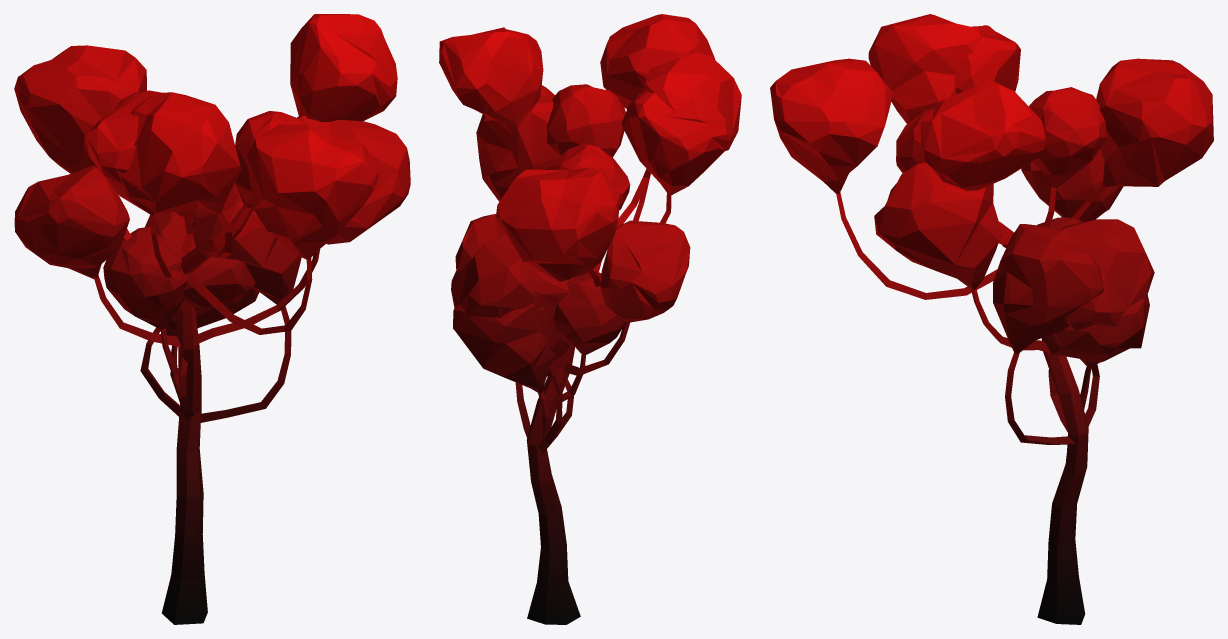
The model's file is TreeEuca09.fbx.
3 renders of one model, left to right at view 1: azimuth 30°, elevation 25°; view 2: azimuth 150°, elevation 25°; view 3: azimuth 270°, elevation 25°, orthographic. The views are drawn at different scales.
Parts seen in each view (by area): view 1: TreeEuca09_LOD0; view 2: TreeEuca09_LOD0; view 3: TreeEuca09_LOD0.
Boxes of the visible parts, left/top/right/bottom form: TreeEuca09_LOD0: left=14, top=14, right=410, bottom=624; TreeEuca09_LOD0: left=439, top=14, right=741, bottom=624; TreeEuca09_LOD0: left=770, top=14, right=1213, bottom=624.
Size of what is drawn, in the model's own units: 385 by 701 by 488.
